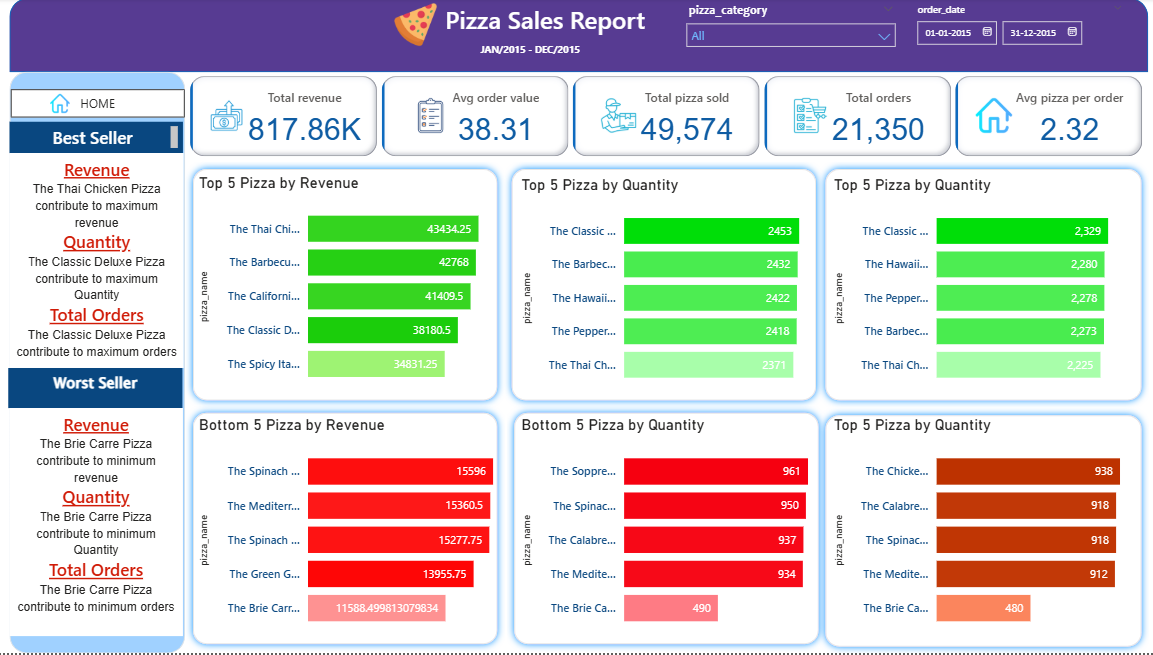

What the dashboard file says about the page in this screenshot:
{"tool":"powerbi","page":{"name":"PERFORMANE","canvas":[1280,720],"ordinal":1},"visuals":[{"type":"cardVisual","fields":{"Data":["pizza_sales.Total revenue","pizza_sales.Avg_order_value","pizza_sales.Total_piza_sold","pizza_sales.Total_orders","pizza_sales.Avg_pizza_per_order"]},"box":[207.1,81.4,1057.1,98.6],"z":0},{"type":"shape","box":[207.1,180,350,270],"z":1000},{"type":"shape","box":[14.3,0,1250,81.4],"z":2000},{"type":"textbox","box":[487.1,0,260,51.4],"z":3000},{"type":"image","box":[420,0,78.6,58.6],"z":4000},{"type":"shape","box":[557.1,180,350,270],"z":6000},{"type":"shape","box":[207.1,447.1,350,270],"z":8000},{"type":"shape","box":[560,447.1,350,270],"z":10000},{"type":"shape","box":[14.3,81.4,192.9,638.6],"z":14000},{"type":"slicer","fields":{"Values":["pizza_sales.pizza_category"]},"box":[747.1,0,250,81.4],"z":15000},{"type":"slicer","fields":{"Values":["pizza_sales.order_date"]},"box":[997.1,0,250,81.4],"z":16000},{"type":"textbox","box":[525.7,41.4,155.7,32.9],"z":17000},{"type":"shape","box":[901.4,450,362.9,270],"z":17001},{"type":"shape","box":[901.4,180,362.9,270],"z":17002},{"type":"clusteredBarChart","title":"Top 5 Pizza by Revenue","fields":{"Category":["pizza_sales.pizza_name"],"Y":["pizza_sales.Total revenue"]},"box":[217.1,191.4,375.7,245],"z":17003},{"type":"clusteredBarChart","title":"Bottom 5 Pizza by Revenue","fields":{"Category":["pizza_sales.pizza_name"],"Y":["pizza_sales.Total revenue"]},"box":[217.1,458.6,375.7,247.1],"z":17004},{"type":"clusteredBarChart","title":"Top 5 Pizza by Quantity","fields":{"Category":["pizza_sales.pizza_name"],"Y":["Sum(pizza_sales.quantity)"]},"box":[571.4,194.3,350,242.9],"z":17005},{"type":"clusteredBarChart","title":"Bottom 5 Pizza by Quantity","fields":{"Category":["pizza_sales.pizza_name"],"Y":["Sum(pizza_sales.quantity)"]},"box":[571.4,458.6,350,247.1],"z":17006},{"type":"clusteredBarChart","title":"Top 5 Pizza by Quantity","fields":{"Category":["pizza_sales.pizza_name"],"Y":["pizza_sales.Total orders"]},"box":[914.3,194.3,350,242.9],"z":17007},{"type":"clusteredBarChart","title":"Top 5 Pizza by Quantity","fields":{"Category":["pizza_sales.pizza_name"],"Y":["pizza_sales.Total orders"]},"box":[914.3,458.6,350,247.1],"z":17008},{"type":"textbox","box":[14.3,135.7,190,34.3],"z":17009},{"type":"textbox","box":[12.9,405.7,191.4,44.3],"z":17010},{"type":"textbox","box":[14.3,170,191.4,235.7],"z":17011},{"type":"textbox","box":[14.3,450,190,250],"z":17012},{"type":"pageNavigator","box":[15.7,100,191.4,31.4],"z":17013},{"type":"image","box":[52.9,100,31.4,31.4],"z":17014}]}

Visuals, with their boxes in screenshot pixels (x1, y1, x2, y2), scaled from the page's 1280x720 canvas onto the 1153x655 screenshot:
cardVisual - pizza_sales.Total revenue x pizza_sales.Avg_order_value: BBox(187, 74, 1139, 164)
shape: BBox(187, 164, 502, 409)
shape: BBox(13, 0, 1139, 74)
textbox: BBox(439, 0, 673, 47)
image: BBox(378, 0, 449, 53)
shape: BBox(502, 164, 817, 409)
shape: BBox(187, 407, 502, 652)
shape: BBox(504, 407, 820, 652)
shape: BBox(13, 74, 187, 654)
slicer - pizza_sales.pizza_category: BBox(673, 0, 898, 74)
slicer - pizza_sales.order_date: BBox(898, 0, 1123, 74)
textbox: BBox(474, 38, 614, 68)
shape: BBox(812, 409, 1139, 654)
shape: BBox(812, 164, 1139, 409)
"Top 5 Pizza by Revenue" clusteredBarChart: BBox(196, 174, 534, 397)
"Bottom 5 Pizza by Revenue" clusteredBarChart: BBox(196, 417, 534, 642)
"Top 5 Pizza by Quantity" clusteredBarChart: BBox(515, 177, 830, 398)
"Bottom 5 Pizza by Quantity" clusteredBarChart: BBox(515, 417, 830, 642)
"Top 5 Pizza by Quantity" clusteredBarChart: BBox(824, 177, 1139, 398)
"Top 5 Pizza by Quantity" clusteredBarChart: BBox(824, 417, 1139, 642)
textbox: BBox(13, 123, 184, 155)
textbox: BBox(12, 369, 184, 409)
textbox: BBox(13, 155, 185, 369)
textbox: BBox(13, 409, 184, 637)
pageNavigator: BBox(14, 91, 187, 120)
image: BBox(48, 91, 76, 120)
